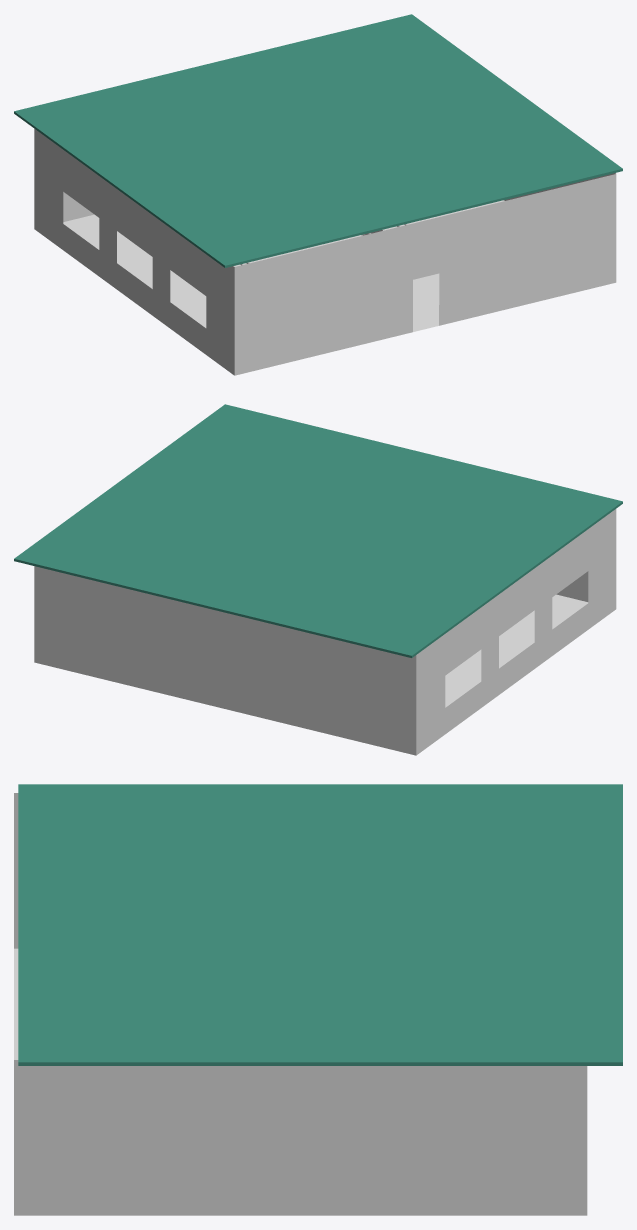
Rendered from Lvl1Environment.FBX.
3 views of the same model, one above another, from view 1: azimuth 30°, elevation 25°; view 2: azimuth 150°, elevation 25°; view 3: azimuth 270°, elevation 25° (orthographic). The views are drawn at different scales.
Visible parts, largest first — view 1: Floor002, Lvl1; view 2: Floor002, Lvl1; view 3: Floor002, Lvl1.
Boxes of the visible parts, x1,y1,x2,y2 form: Floor002: [14, 14, 622, 267]; Lvl1: [34, 129, 616, 375]; Floor002: [14, 404, 622, 657]; Lvl1: [34, 509, 616, 755]; Floor002: [18, 784, 622, 1065]; Lvl1: [14, 793, 587, 1215].
Size of the model in its own units: 1132 by 338 by 1047.
